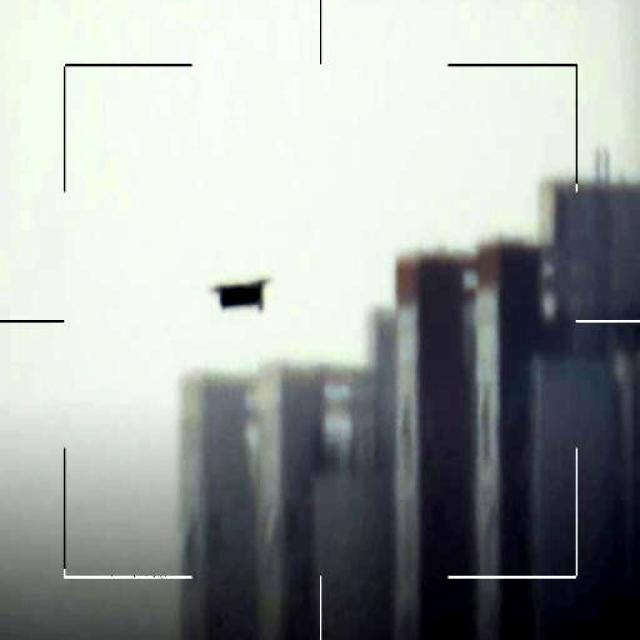bird: (216, 278, 266, 309)
